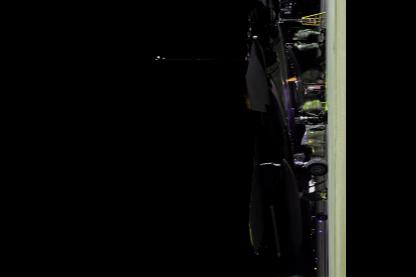F117: (154, 0, 329, 276)
